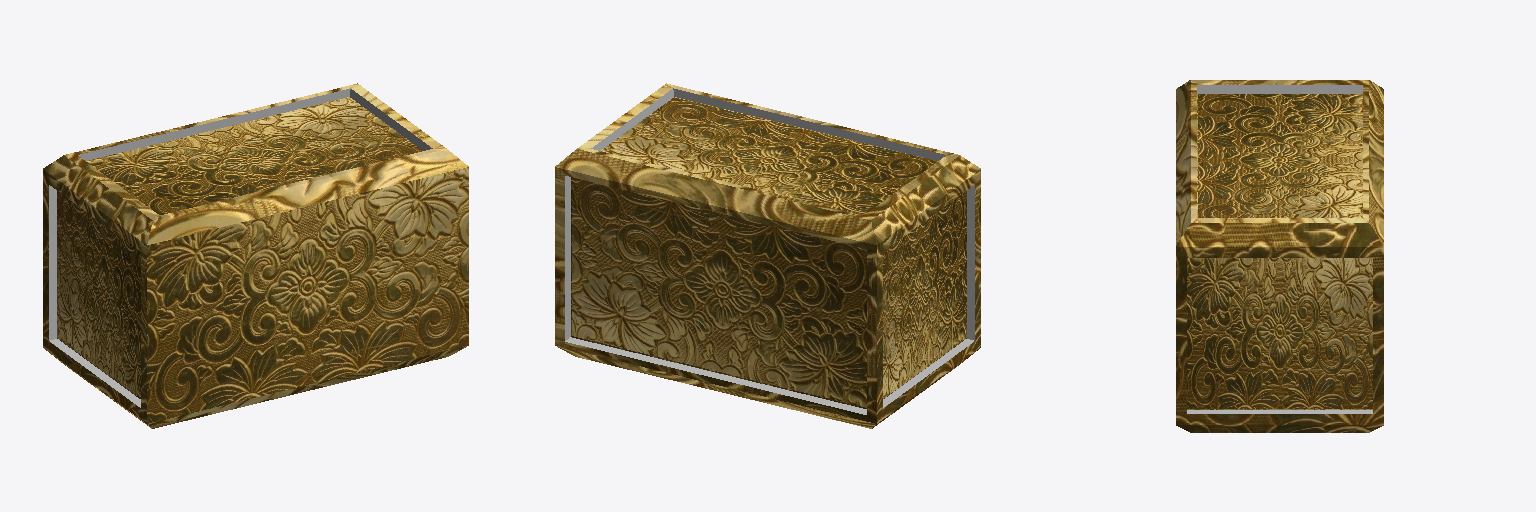
The picture shows the model from 3 angles: view 1: azimuth 30°, elevation 25°; view 2: azimuth 150°, elevation 25°; view 3: azimuth 270°, elevation 25°; orthographic projection.
Visible parts, largest first — view 1: Cube_Cube.001; view 2: Cube_Cube.001; view 3: Cube_Cube.001.
Part boxes in pixels (x1,y1,x2,y2): Cube_Cube.001: (43, 83, 468, 428); Cube_Cube.001: (555, 83, 980, 428); Cube_Cube.001: (1176, 80, 1383, 432).
Size of the model in its own units: 1.81 by 1.12 by 1.01.
2 materials, 1 textured.